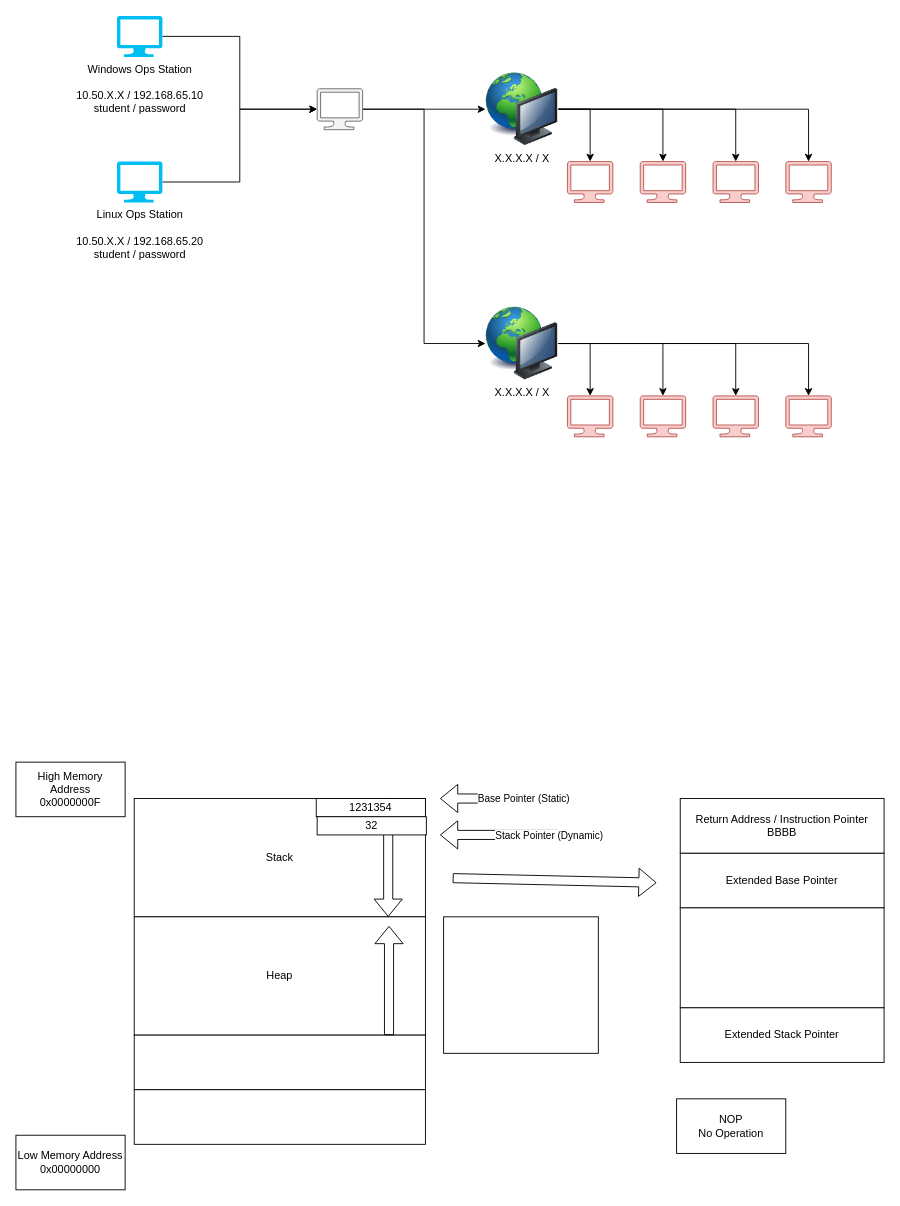
Some shapes in this 900 by 1206 pixel diagram are drawn without their labels. Each missing label, with the centre of its shape:
Buffer gets() "A" * 62: point (781, 957)
Data: point (279, 1062)
Grey Host (lin) 10.50.X.X student / (15 char password): point (339, 109)
pop r8 | r8 =8898 pop r8 | r8=6666 pop rax | rax=32 r8=6666 pop rbx: point (520, 984)
Text: point (279, 1116)
